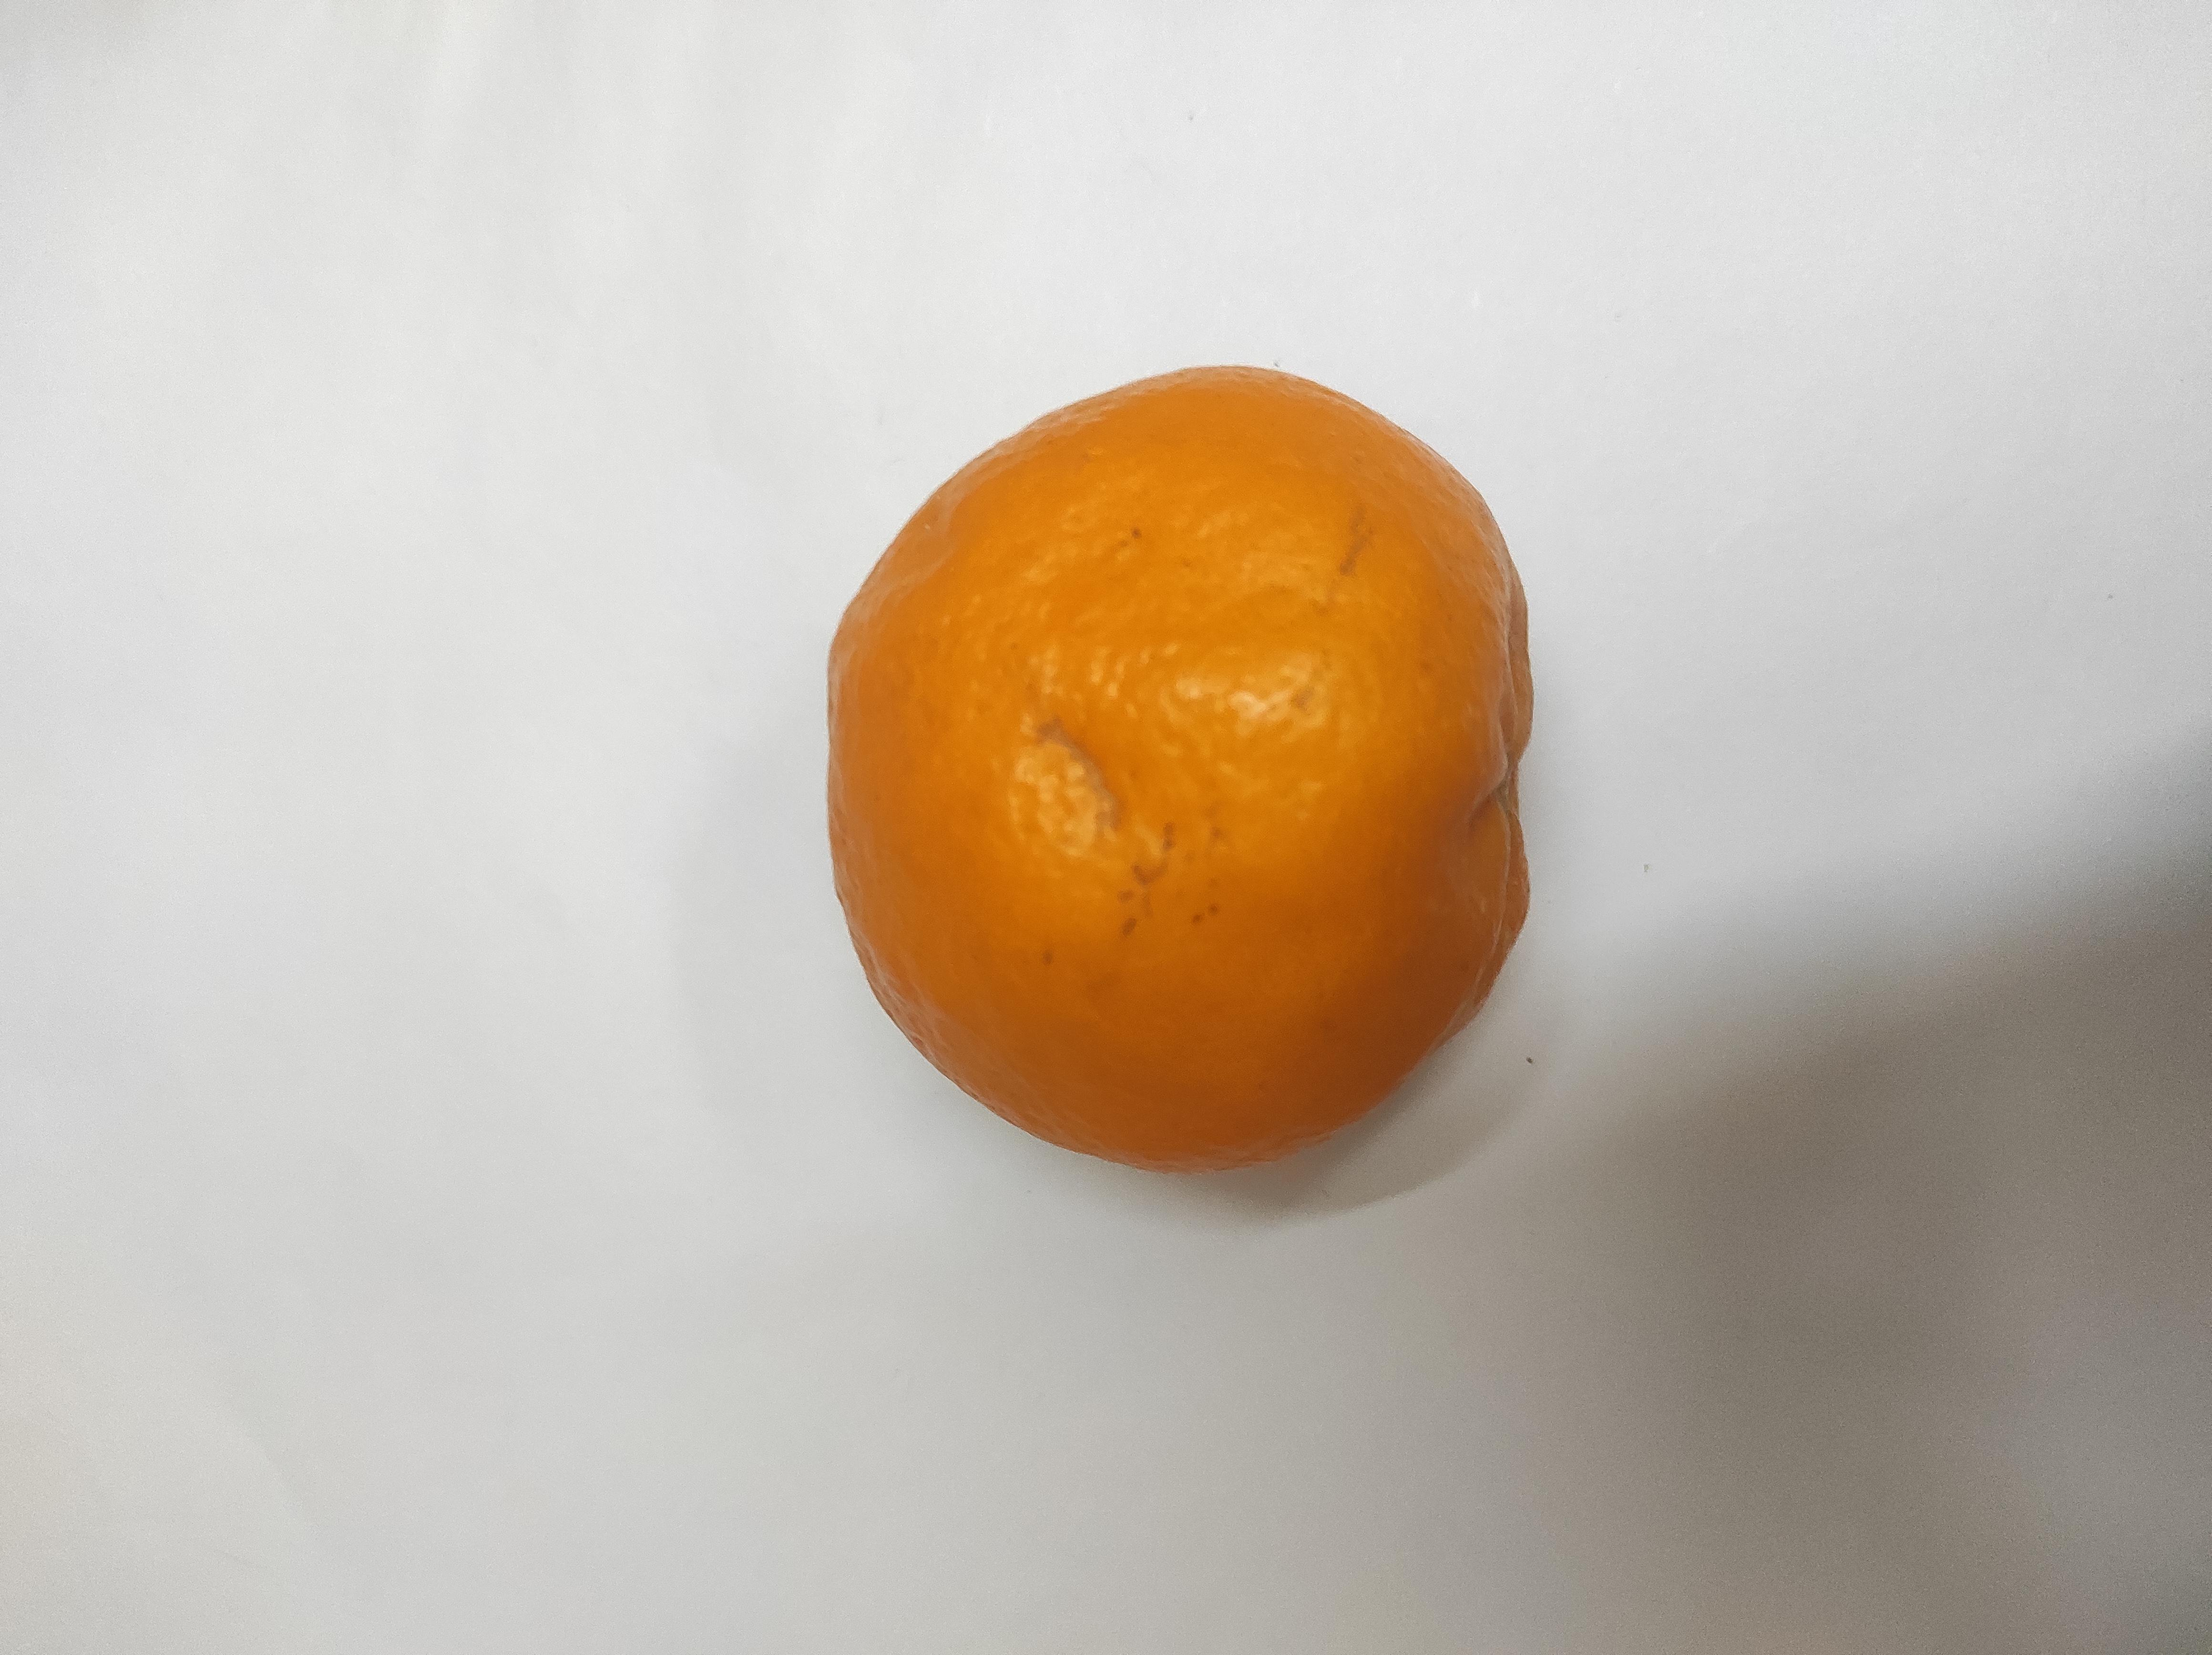Unripe: (824, 362, 1530, 1168)
